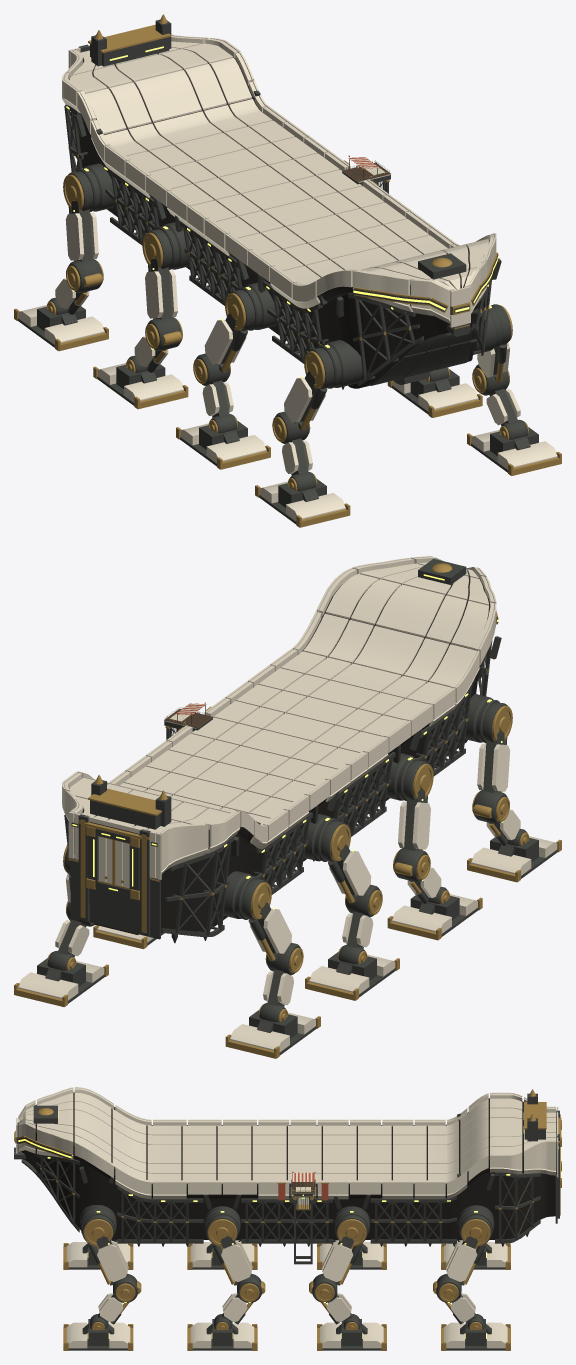
File: ordo.glb
3 views of the same model, one above another, from view 1: azimuth 30°, elevation 25°; view 2: azimuth 150°, elevation 25°; view 3: azimuth 270°, elevation 25° (orthographic). The views are drawn at different scales.
Parts seen in each view (by area): view 1: body, body_graphite, body_dark, body_brass, leg_r1_ankle, leg_l1_ankle, leg_r2_ankle, leg_r3_ankle, leg_r4_ankle, leg_l1_ankle_graphite, leg_r1_ankle_graphite, leg_r2_ankle_graphite (+27 smaller); view 2: body, body_graphite, body_dark, body_brass, door, leg_r4_ankle, leg_l4_ankle, leg_r3_ankle, leg_r2_ankle, leg_r1_ankle, leg_l4_ankle_graphite, leg_r4_ankle_graphite (+27 smaller); view 3: body, body_dark, body_graphite, body_brass, leg_l1_ankle, leg_l2_ankle, leg_l3_ankle, leg_l4_ankle, leg_l2_ankle_graphite, leg_l1_shoulder, leg_l2_shoulder, leg_l3_shoulder (+33 smaller).
Boxes of the visible parts, x1,y1,x2,y2 form: body: (62,34,496,327); body_graphite: (64,19,501,389); body_dark: (69,57,489,388); body_brass: (68,14,497,382); leg_r1_ankle: (260,481,345,520); leg_l1_ankle: (471,429,557,469); leg_r2_ankle: (180,423,266,462); leg_r3_ankle: (98,363,183,402); leg_r4_ankle: (18,305,104,344); leg_l1_ankle_graphite: (471,419,538,472); leg_r1_ankle_graphite: (259,471,326,524); leg_r2_ankle_graphite: (180,413,247,466); body: (62,556,496,879); body_graphite: (64,559,501,943); body_dark: (69,571,494,934); body_brass: (68,563,497,933); door: (98,836,129,887); leg_r4_ankle: (230,1012,315,1051); leg_l4_ankle: (18,961,104,1000); leg_r3_ankle: (309,954,395,994); leg_r2_ankle: (392,894,477,933); leg_r1_ankle: (471,836,557,875); leg_l4_ankle_graphite: (37,951,104,1003); leg_r4_ankle_graphite: (249,1002,316,1055); body: (16,1087,558,1199); body_dark: (17,1092,556,1239); body_graphite: (14,1093,559,1246); body_brass: (14,1089,561,1222); leg_l1_ankle: (66,1322,130,1348); leg_l2_ankle: (190,1322,254,1348); leg_l3_ankle: (320,1322,383,1348); leg_l4_ankle: (444,1322,507,1348); leg_l2_ankle_graphite: (192,1314,251,1350); leg_l1_shoulder: (97,1240,128,1281); leg_l2_shoulder: (221,1240,252,1281); leg_l3_shoulder: (321,1240,353,1281).
Size of the model in its own units: 176 by 163 by 406.
